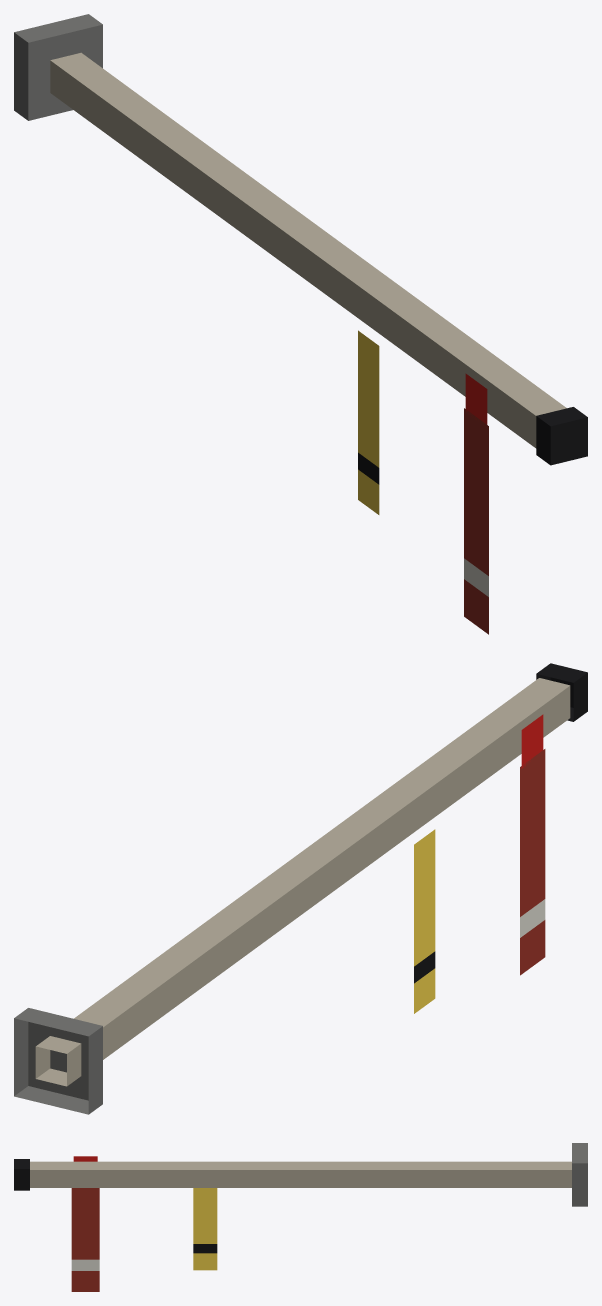
File: red.glb
3 views of the same model, one above another, from view 1: azimuth 30°, elevation 25°; view 2: azimuth 150°, elevation 25°; view 3: azimuth 270°, elevation 25° (orthographic). The views are drawn at different scales.
Parts seen in each view (by area): view 1: signal_semaphore_path_red; view 2: signal_semaphore_path_red; view 3: signal_semaphore_path_red.
Part boxes in pixels (<box>): signal_semaphore_path_red: <box>14,14,587,634</box>; signal_semaphore_path_red: <box>14,663,587,1114</box>; signal_semaphore_path_red: <box>14,1143,587,1291</box>.
Bounding box in the file's own units: 1.2 × 4.05 × 14.4.
